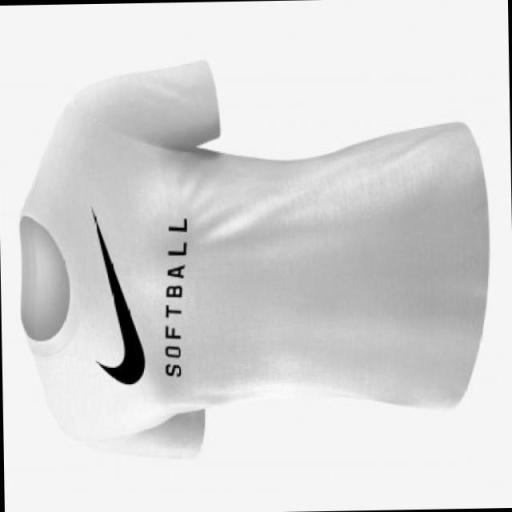Nike: (88, 196, 155, 394)
